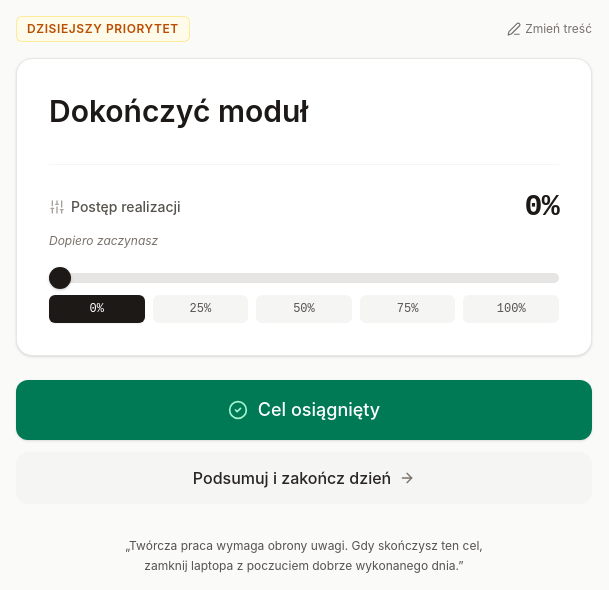
Test: ActiveGoal › suwak przekazuje wybraną wartość
Set the slider named "Regulacja postępu celu" to "85" at [477, 278], box [49,273,559,283]
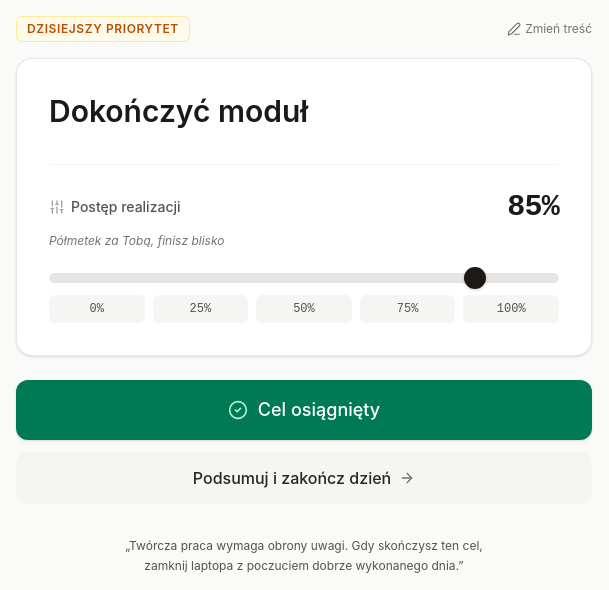
Expected: the text "Półmetek za Tobą, finisz blisko" is shown, [49,233,224,248]
